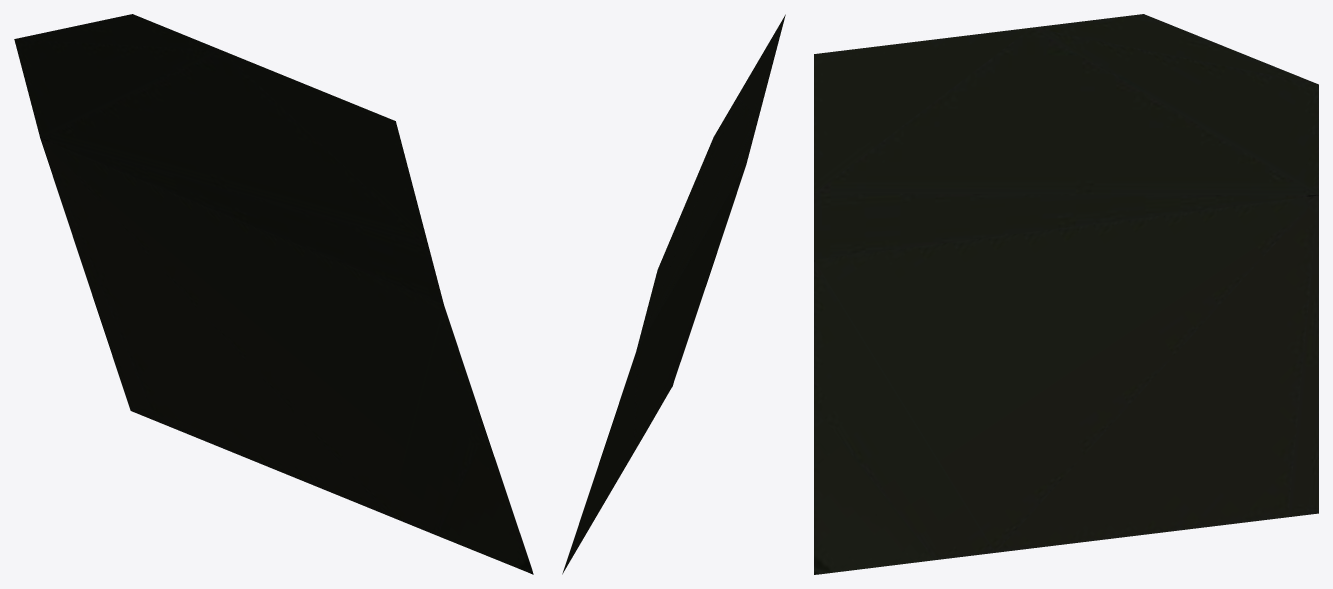
The picture shows the model from 3 angles, left to right: view 1: azimuth 30°, elevation 25°; view 2: azimuth 150°, elevation 25°; view 3: azimuth 270°, elevation 25°; orthographic projection. The views are drawn at different scales.
Bounding box in the file's own units: 1.59 × 2.95 × 2.95.
Materials: 3 (3 with a texture image).
